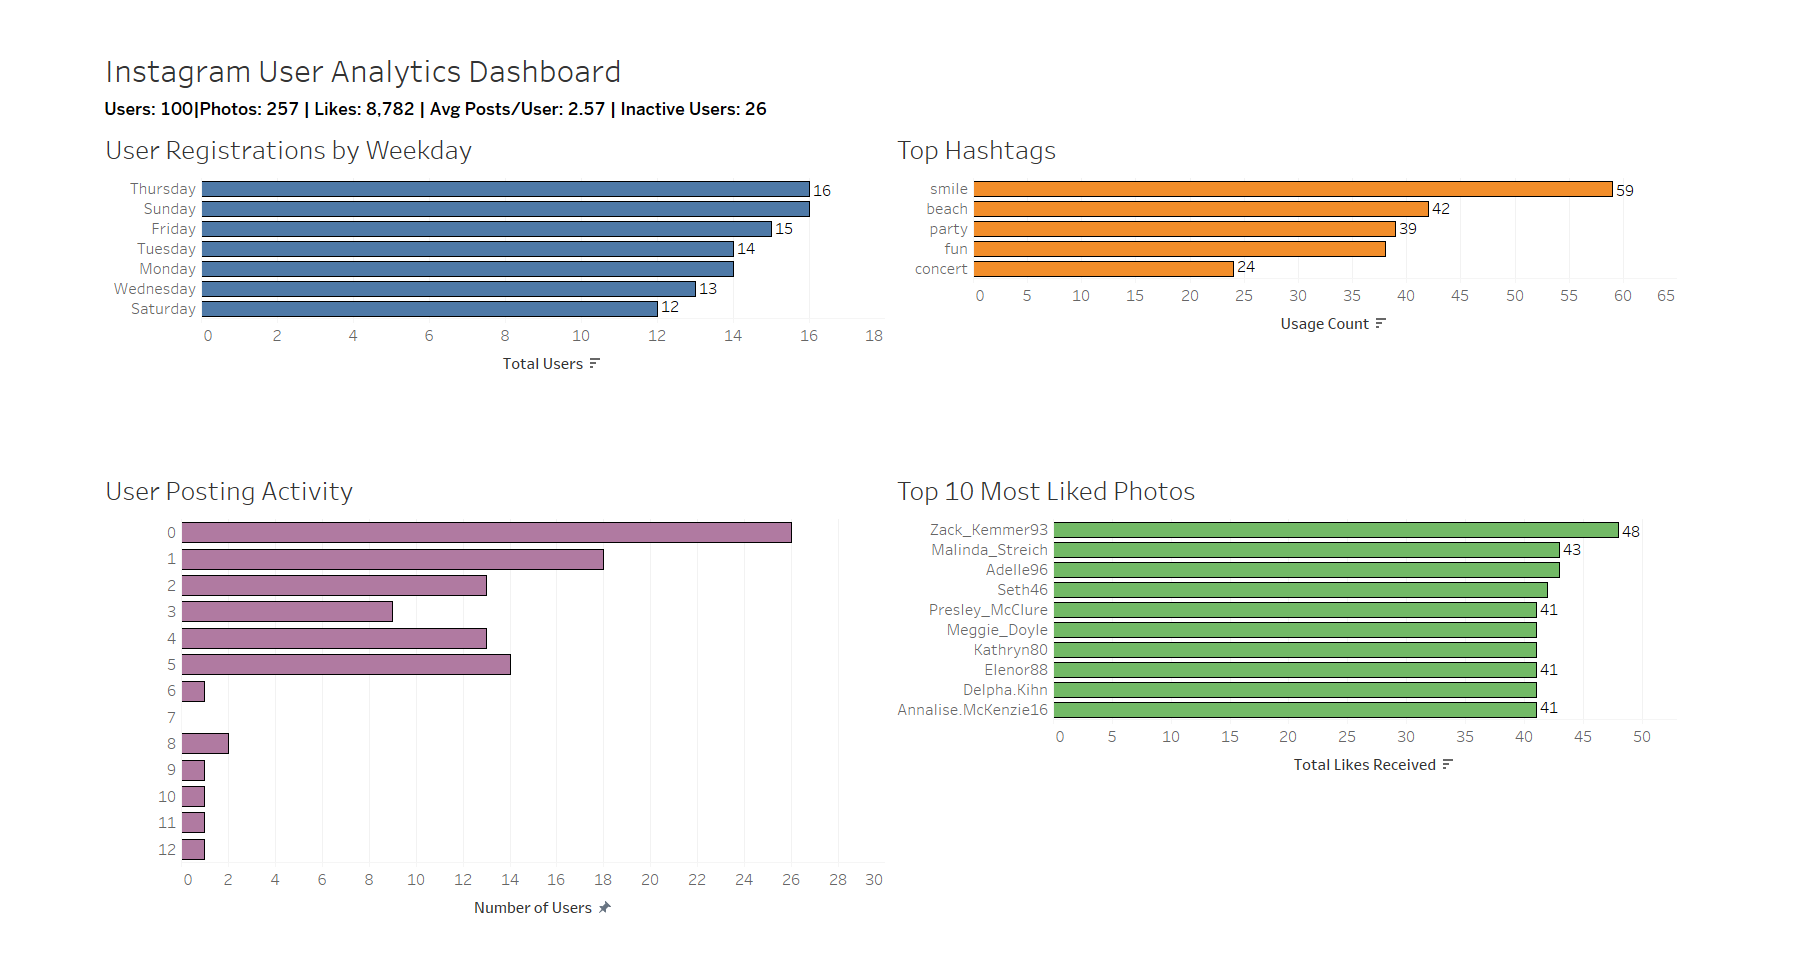

The page's visual inventory and layout, read from the dashboard file:
{"tool":"tableau","page":{"name":"Instagram User Analytics Dashboard","canvas":[1600,900],"ordinal":0},"visuals":[{"type":"title","box":[8,8,1584,50]},{"type":"text","box":[8,58,1584,29]},{"type":"worksheet","title":"User Registrations by Weekday","mark":"Automatic","rows":["registration_day"],"cols":["total_users"],"box":[8,87,792,340.5]},{"type":"worksheet","title":"Top Hashtags","mark":"Automatic","rows":["tag_name"],"cols":["usage_count"],"box":[800,87,792,340.5]},{"type":"worksheet","title":"Posts Distribution","mark":"Bar","rows":["Total Posts (bin)"],"cols":["posts_per_user.csv_457D0E74D8D9481AA5B0FCACB4836F49"],"box":[8,427.5,792,464.5]},{"type":"worksheet","title":"Top Performing Photos","mark":"Automatic","rows":["username"],"cols":["likes"],"box":[800,427.5,792,464.5]}]}

Visuals, with their boxes on the page's 1600x900 design canvas (x1, y1, x2, y2). These are canvas units, not pixel positions in the 1812x958 screenshot, which may show the page scaled, cropped or inside an application window:
title: 8,8,1592,58
text: 8,58,1592,87
"User Registrations by Weekday" worksheet: 8,87,800,428
"Top Hashtags" worksheet: 800,87,1592,428
"Posts Distribution" worksheet (Bar marks): 8,428,800,892
"Top Performing Photos" worksheet: 800,428,1592,892
